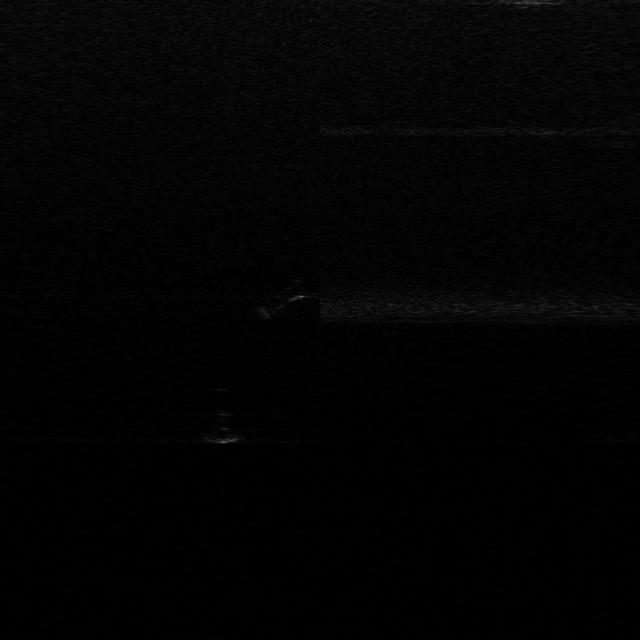ball: (196, 414, 244, 444)
tyre: (257, 280, 312, 320)
